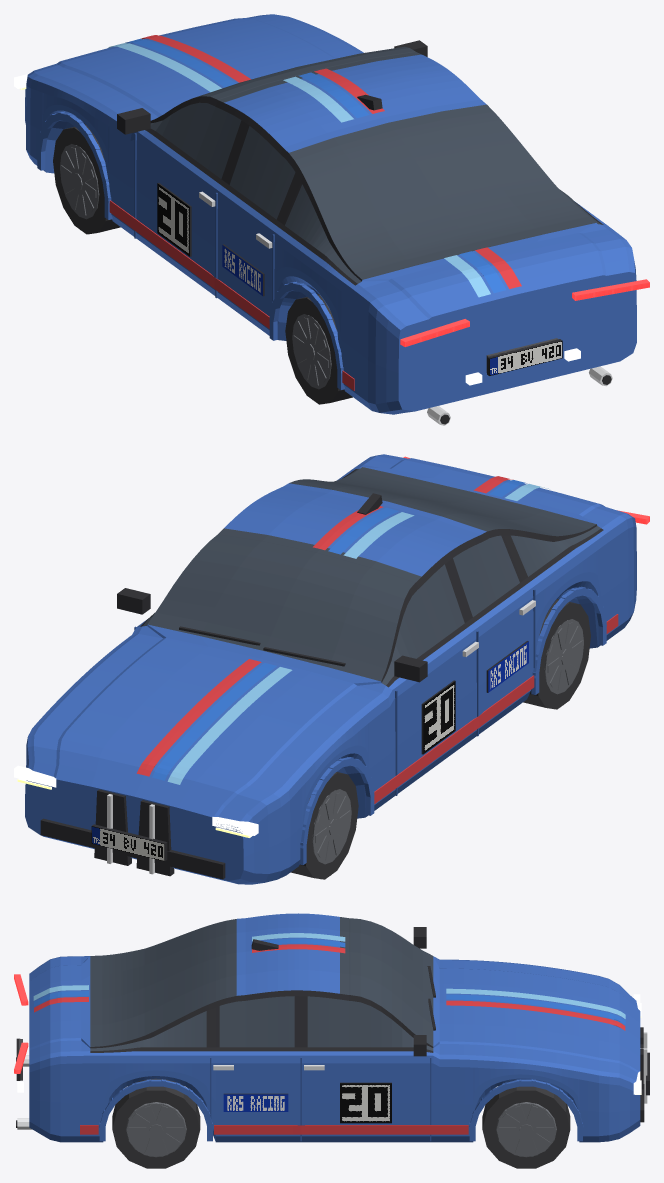
File: bavaro.glb
The picture shows the model from 3 angles, top to bottom: view 1: azimuth 30°, elevation 25°; view 2: azimuth 150°, elevation 25°; view 3: azimuth 270°, elevation 25°; orthographic projection. The views are drawn at different scales.
Visible parts, largest first — view 1: body.005, livery.005, wheel_RL.005, wheel_FL.005; view 2: body.005, livery.005, wheel_RL.005, wheel_FL.005; view 3: body.005, livery.005, wheel_RR.005, wheel_FR.005.
Part boxes in pixels (x1,y1,x2,y2): body.005: [14, 14, 649, 425]; livery.005: [108, 35, 521, 390]; wheel_RL.005: [285, 294, 352, 404]; wheel_FL.005: [53, 124, 120, 234]; body.005: [14, 454, 649, 884]; livery.005: [136, 476, 618, 803]; wheel_RL.005: [523, 599, 590, 709]; wheel_FL.005: [291, 772, 358, 879]; body.005: [14, 913, 649, 1142]; livery.005: [33, 933, 625, 1134]; wheel_RR.005: [112, 1078, 200, 1168]; wheel_FR.005: [482, 1081, 570, 1168].
Bounding box in the file's own units: 2.15 × 1.53 × 4.91.
Materials: 18 (6 with a texture image).
